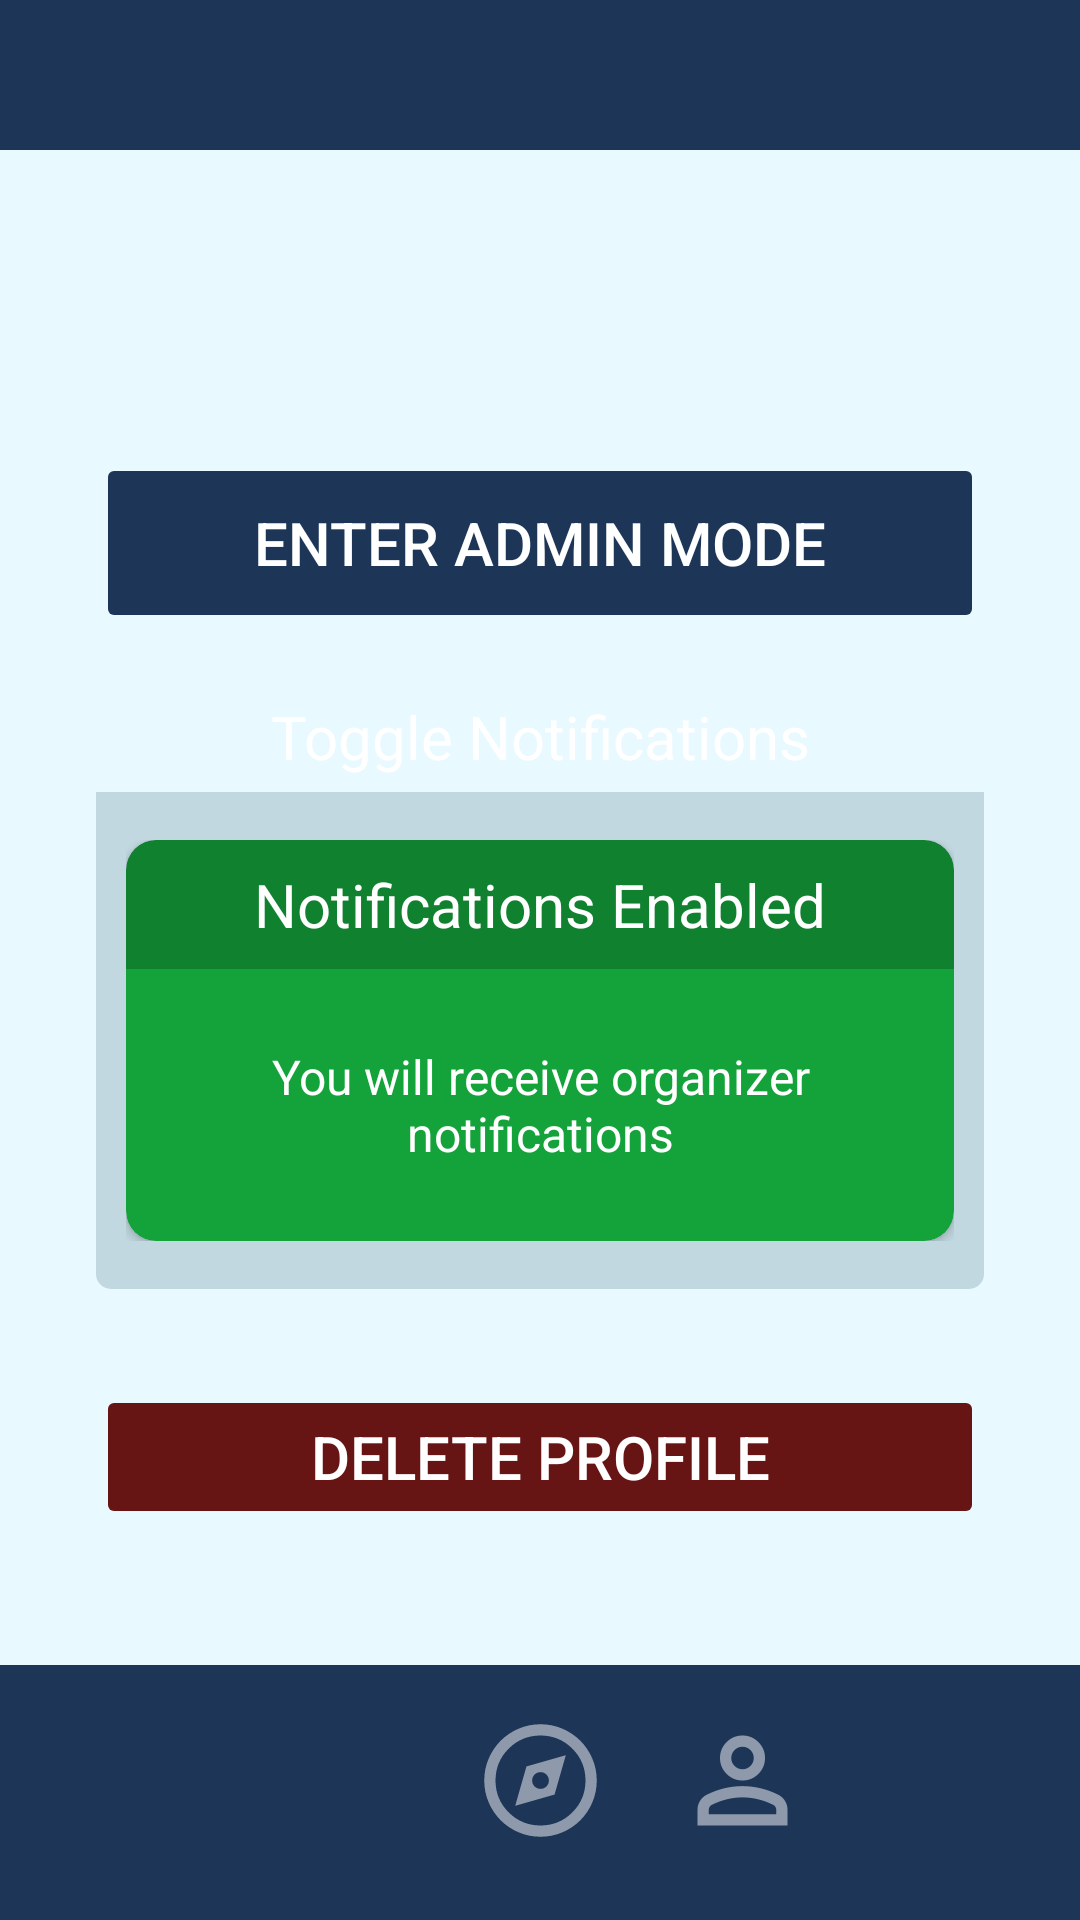

Icons on this 1080px x 1920px Android screen, each with its box as bbox(x1, y1, x2, y2):
explore: bbox(484, 1724, 597, 1837)
person: bbox(697, 1735, 788, 1826)
